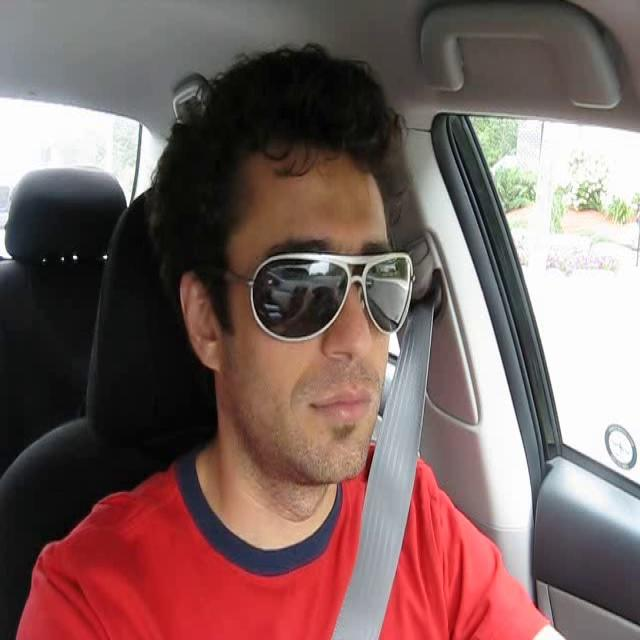close: (301, 382, 376, 430)
